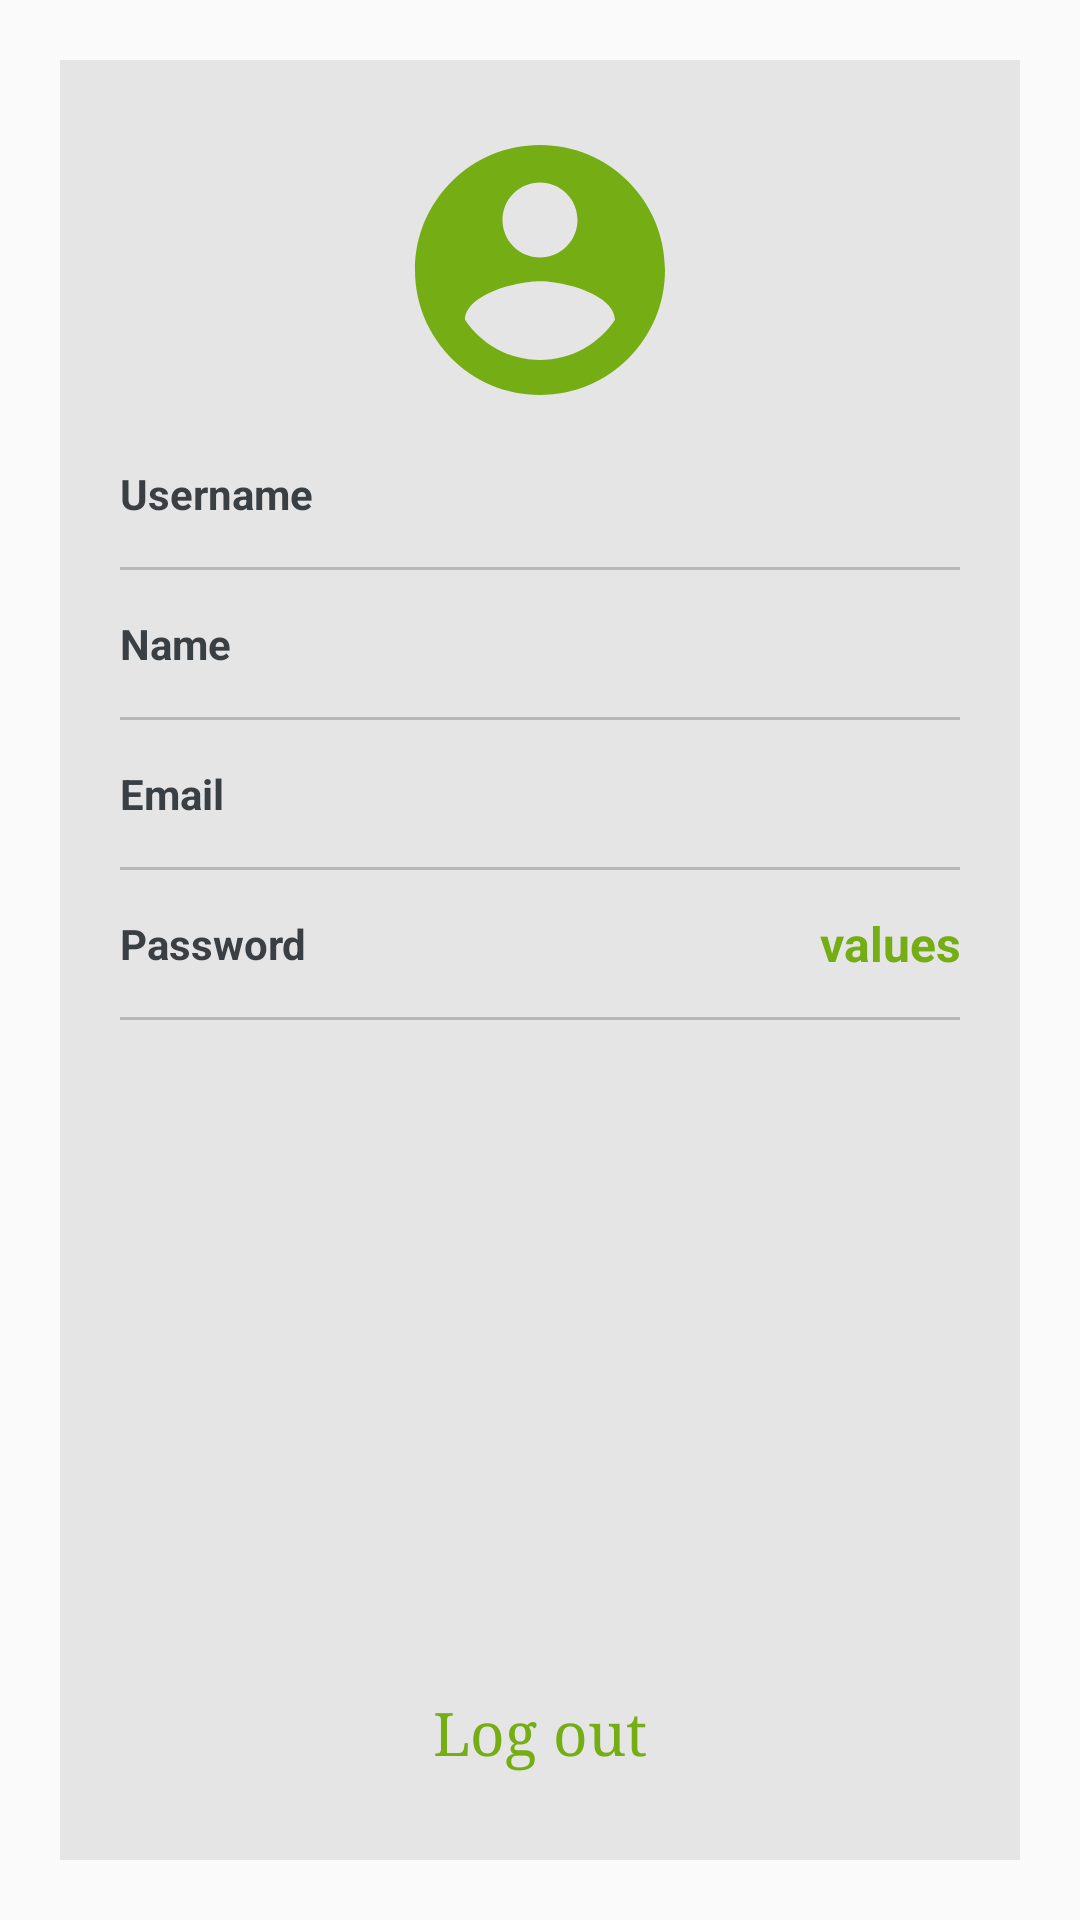

Where icons sit on this 1080 × 1920 app screen, as {"left": x1, "top": y1, "right": x2, "bottom": y2}:
account circle: {"left": 415, "top": 145, "right": 665, "bottom": 395}
